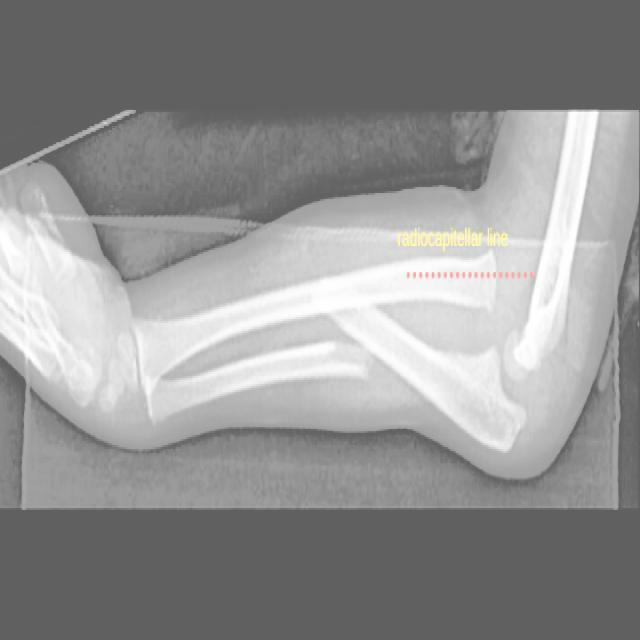Fracture Dislocation: (432, 251, 554, 374), (463, 315, 558, 443), (299, 330, 392, 383)
